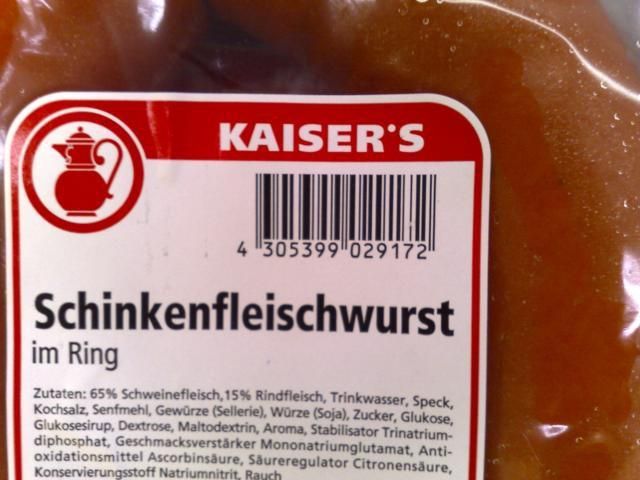Barcode: (231, 166, 455, 270)
